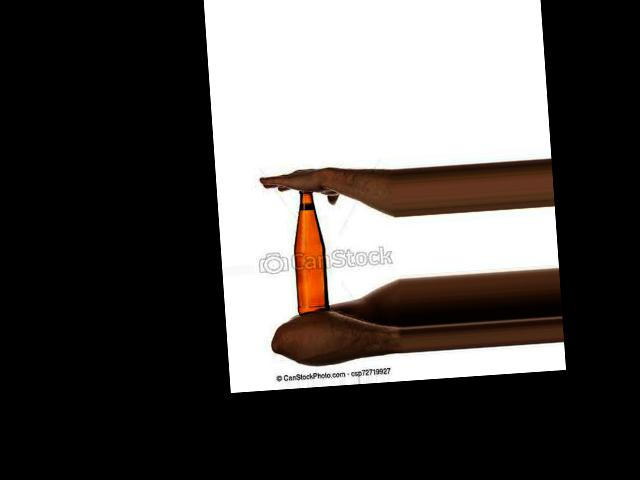beer: (289, 188, 330, 313)
